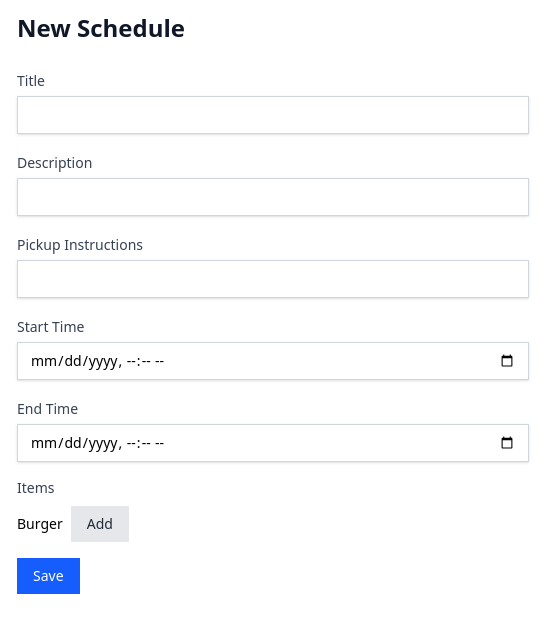
Test: ScheduleForm › validates that at least one item is required
Type "Lunch" into the field labelled "Title" at x=273, y=115, box [17,96,529,134]
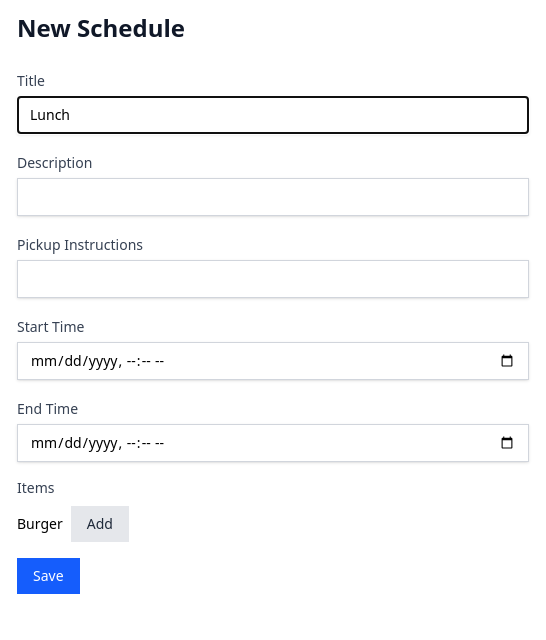
Type "Lunch menu" into the field labelled "Description" at x=273, y=197, box [17,178,529,216]
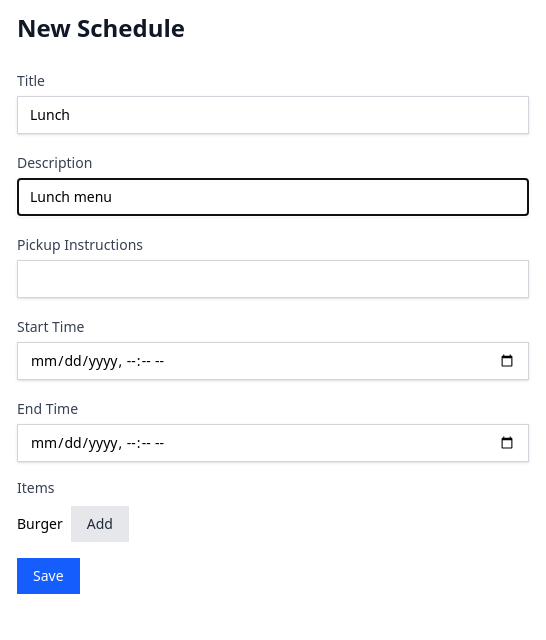
Type "Front desk" into the field labelled "Pickup Instructions" at x=273, y=279, box [17,260,529,298]
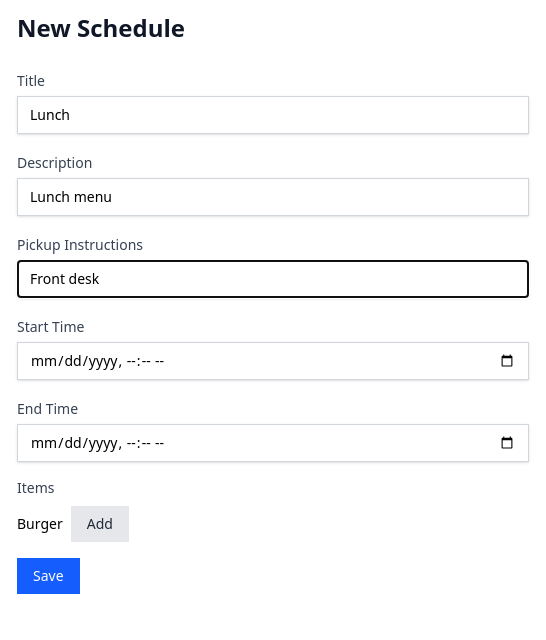
Type "2026-03-01T12:00" into the field labelled "Start Time" at x=273, y=361, box [17,342,529,380]
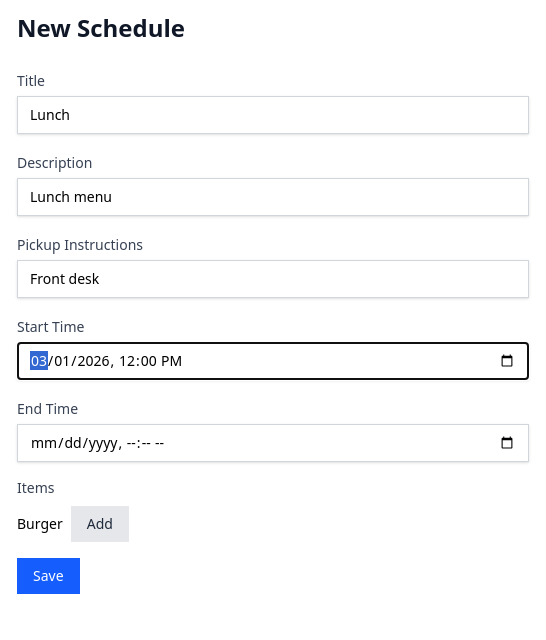
Type "2026-03-01T14:00" into the field labelled "End Time" at x=273, y=443, box [17,424,529,462]
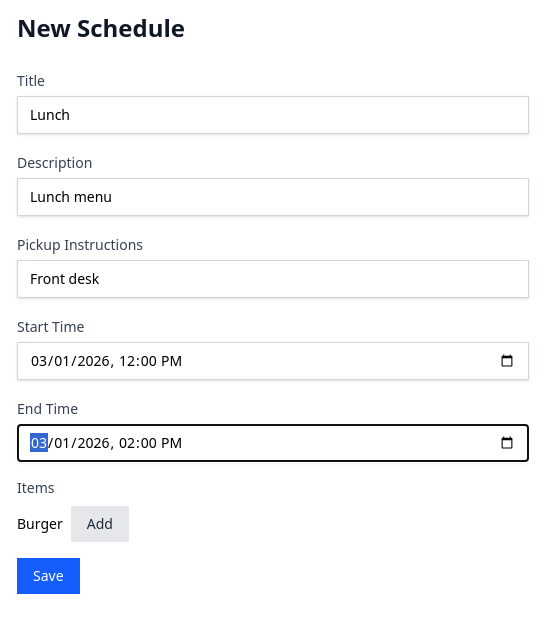
Click the button "Save" at x=48, y=576, box [17,558,80,594]
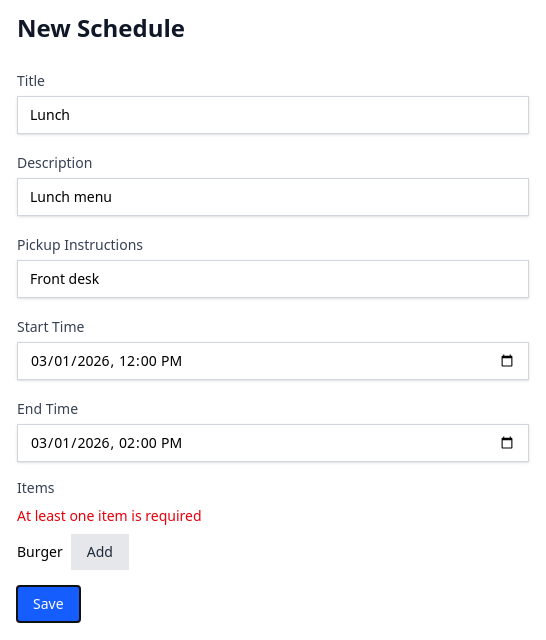
Check: the text "At least one item is required" is shown, box [17,506,202,525]
